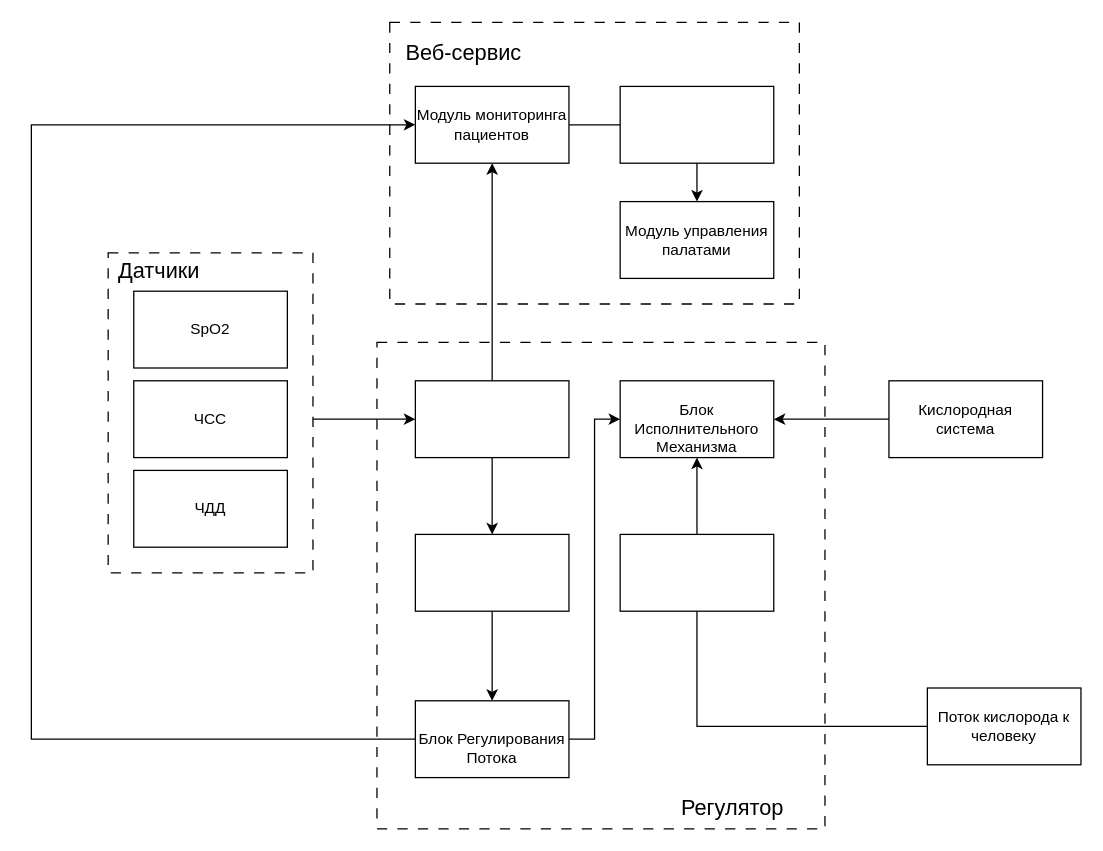
Some shapes in this 1103 by 851 pixel diagram are drawn without their labels. The shapes that lost their labels are listed below. From the top down, each one's centre as x and y in pixels, then its label:
the point at 696,124: Модуль авторизации
the point at 491,419: Блок Сбора Физиологических Данных
the point at 491,572: Блок Логики Установки Задания
the point at 696,572: Блок Сбора Данных КС
